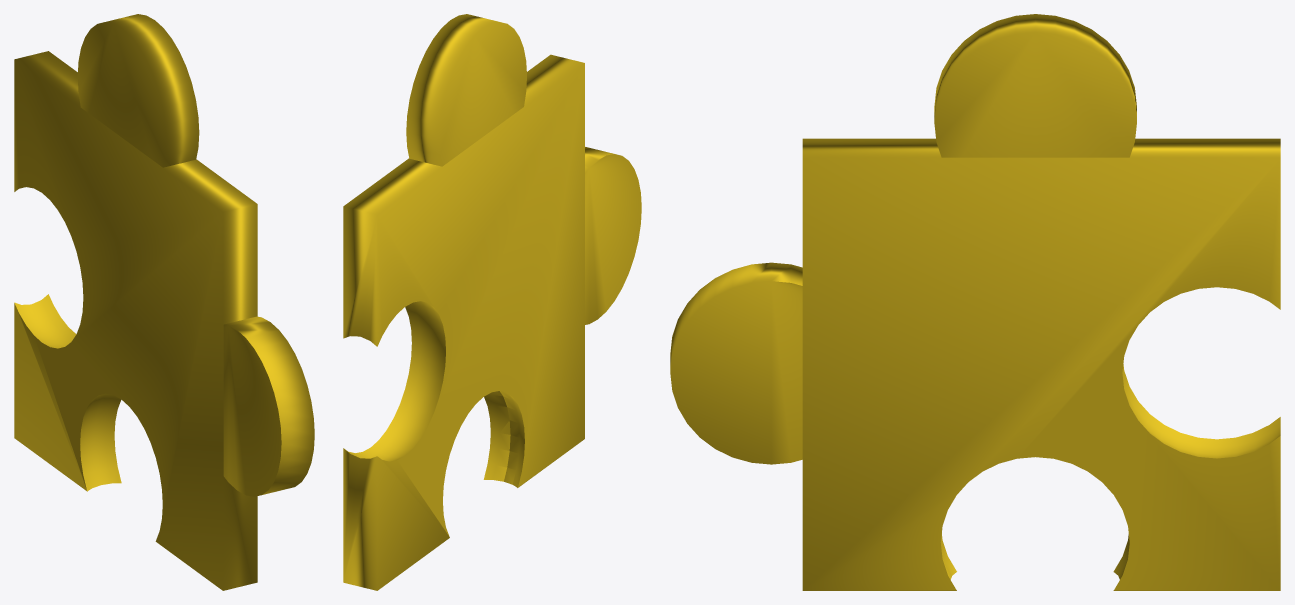
File: Jiggy.fbx
The picture shows the model from 3 angles, left to right: view 1: azimuth 30°, elevation 25°; view 2: azimuth 150°, elevation 25°; view 3: azimuth 270°, elevation 25°; orthographic projection. The views are drawn at different scales.
Parts seen in each view (by area): view 1: Jiggy; view 2: Jiggy; view 3: Jiggy.
Part boxes in pixels (bbox=[...]): Jiggy: bbox=[14, 14, 314, 590]; Jiggy: bbox=[343, 14, 641, 590]; Jiggy: bbox=[670, 14, 1280, 590].
Bounding box in the file's own units: 1.47 × 19.96 × 19.78.
